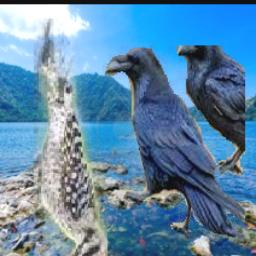Crow: (103, 46, 245, 242)
Woodpecker: (35, 18, 109, 256)
